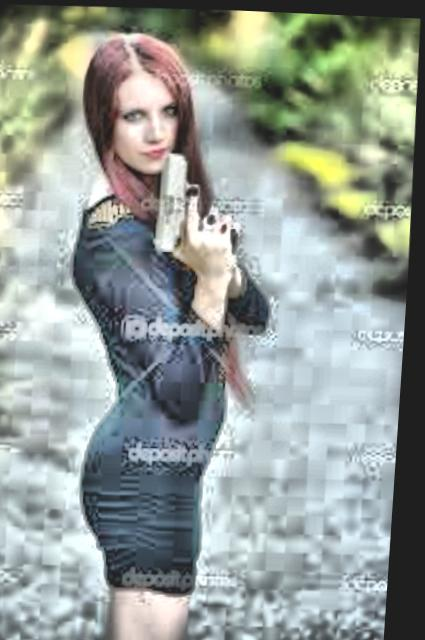pistol: (147, 142, 243, 258)
